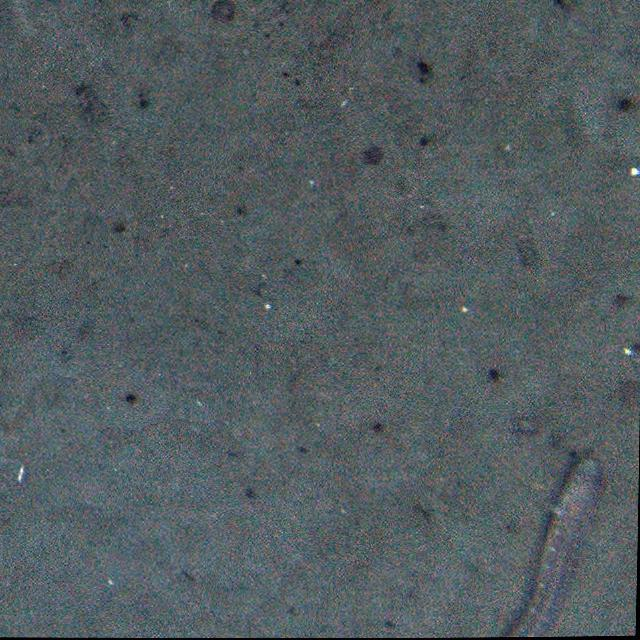roundfish: (513, 448, 611, 640)
